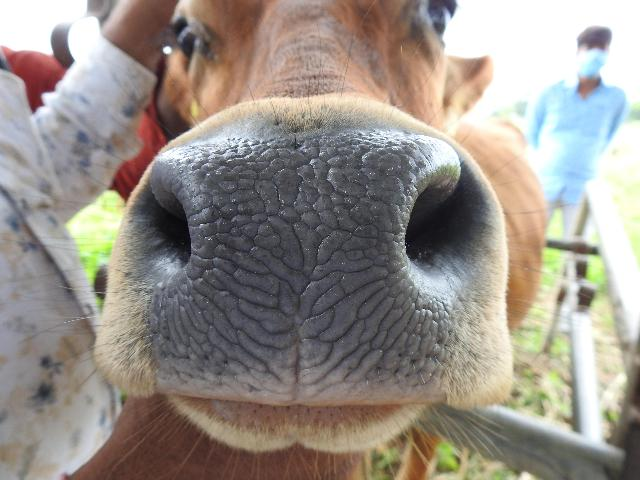Muzzle: (176, 148, 400, 396)
